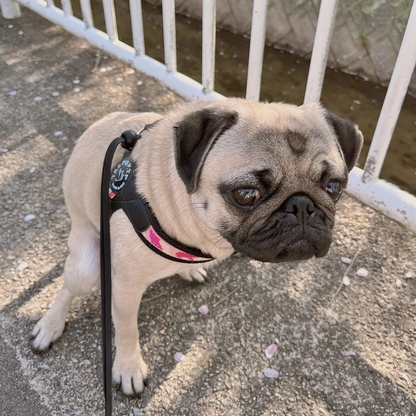Pug: (26, 91, 366, 403)
